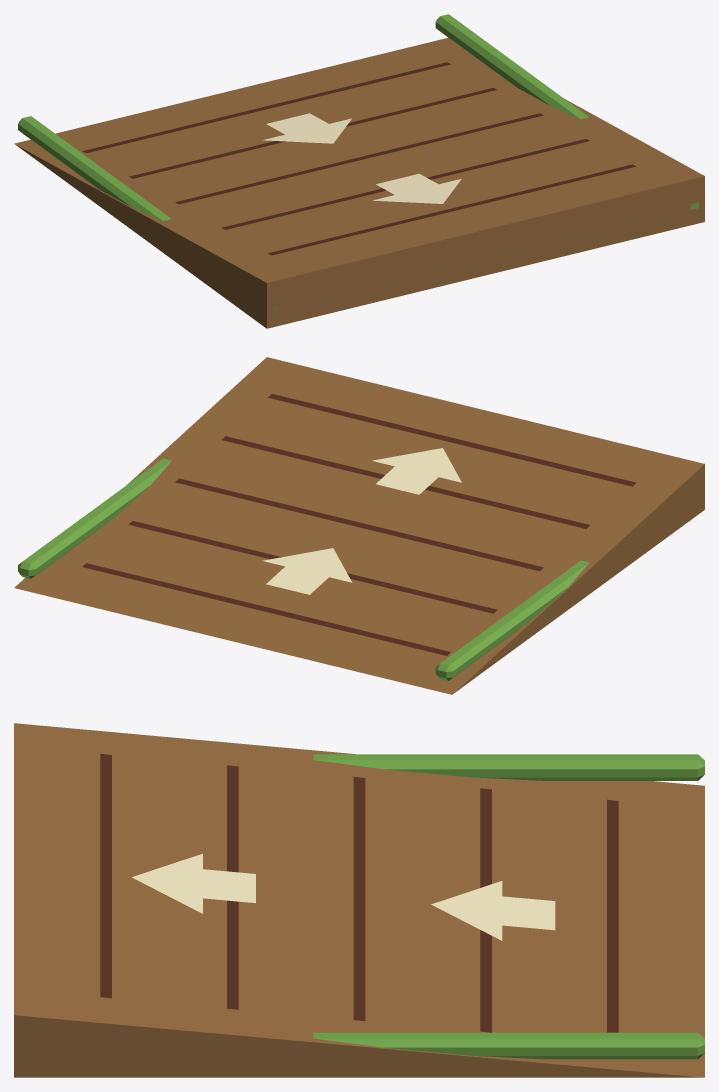
Rendered from slope_ramp.glb.
The picture shows the model from 3 angles, top to bottom: view 1: azimuth 30°, elevation 25°; view 2: azimuth 150°, elevation 25°; view 3: azimuth 270°, elevation 25°; orthographic projection. The views are drawn at different scales.
Parts seen in each view (by area): view 1: RampSurface_Surface, slope_ramp_Surface; view 2: RampSurface_Surface, slope_ramp_Surface; view 3: RampSurface_Surface, slope_ramp_Surface.
Part boxes in pixels (x1=…): RampSurface_Surface: x1=14, y1=37, x2=704, y2=328; slope_ramp_Surface: x1=18, y1=14, x2=698, y2=311; RampSurface_Surface: x1=14, y1=357, x2=704, y2=694; slope_ramp_Surface: x1=18, y1=394, x2=636, y2=680; RampSurface_Surface: x1=14, y1=723, x2=704, y2=1077; slope_ramp_Surface: x1=100, y1=753, x2=704, y2=1059.
Size of the model in its own units: 3 by 0.3 by 3.
1 material, 1 textured.
